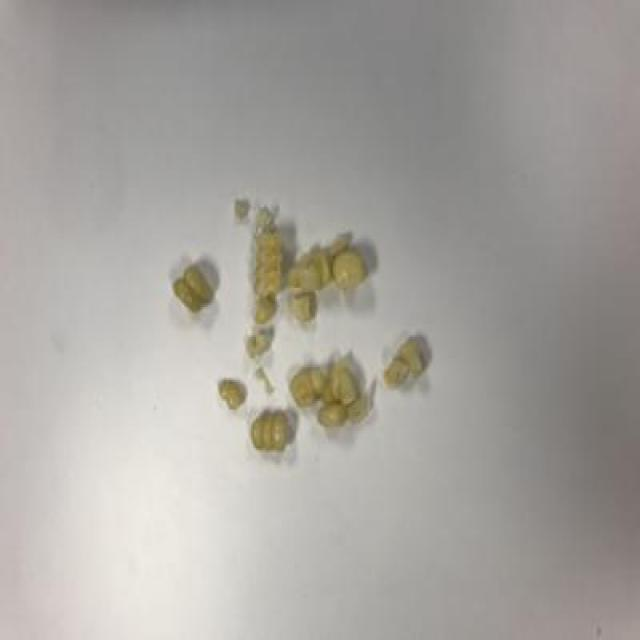compost: (148, 177, 446, 478)
